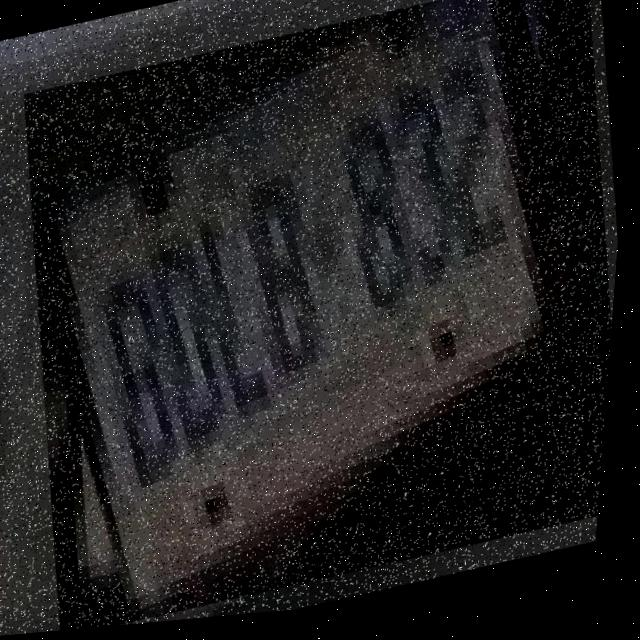LicensePlate: (0, 0, 639, 638)
